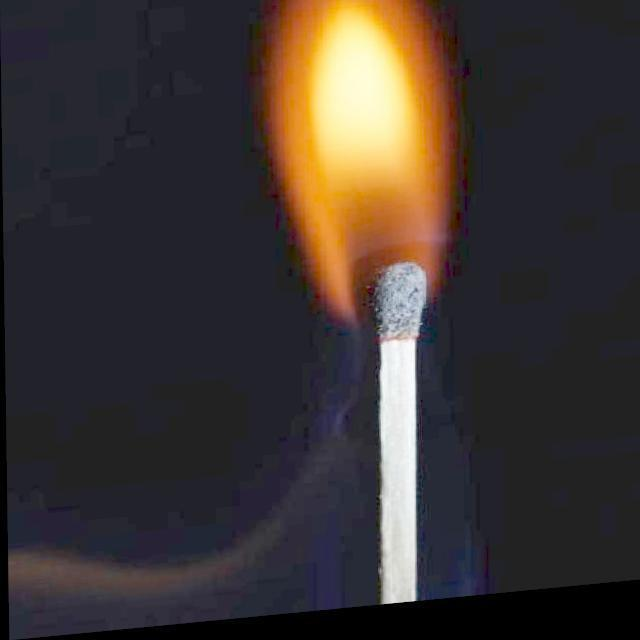Fire: (258, 0, 459, 322)
